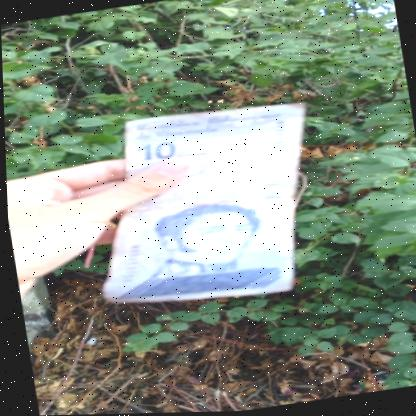ten-front-vef: (74, 96, 334, 320)
